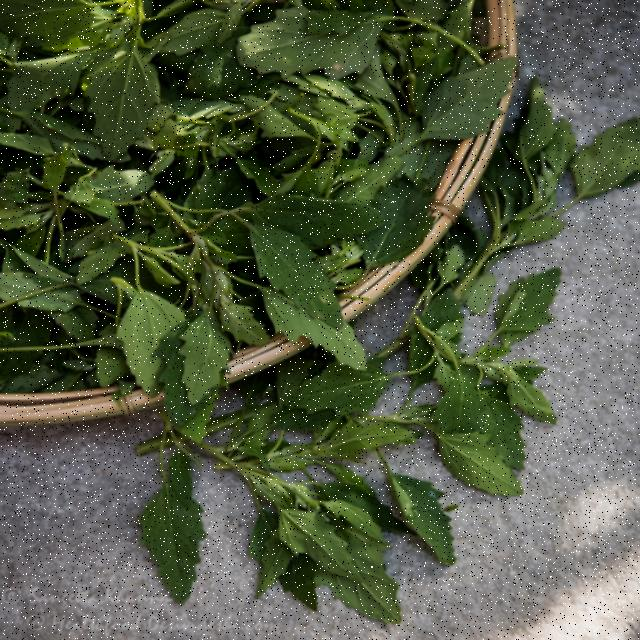NA: (0, 15, 530, 544)
